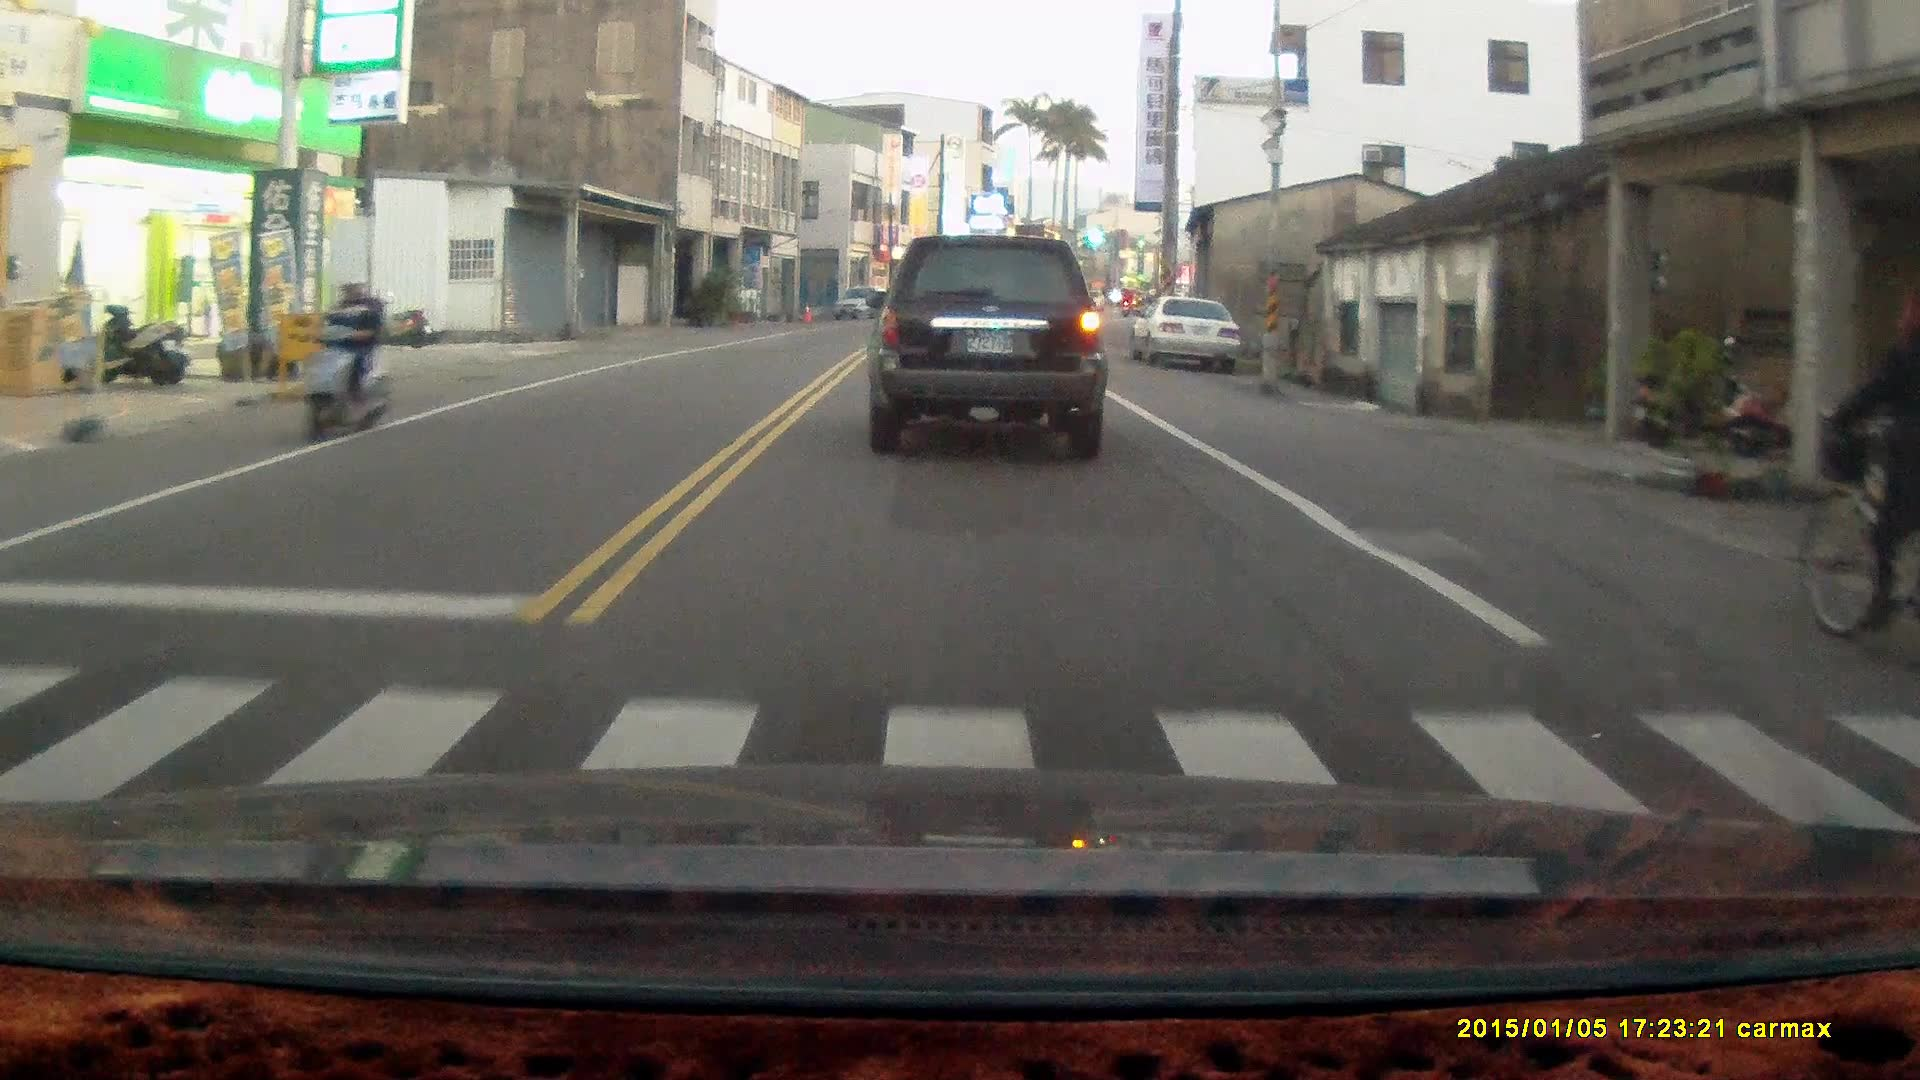rider: (1797, 301, 1920, 645), (294, 270, 391, 445)
vehicle: (868, 231, 1112, 458), (1133, 297, 1243, 371)
